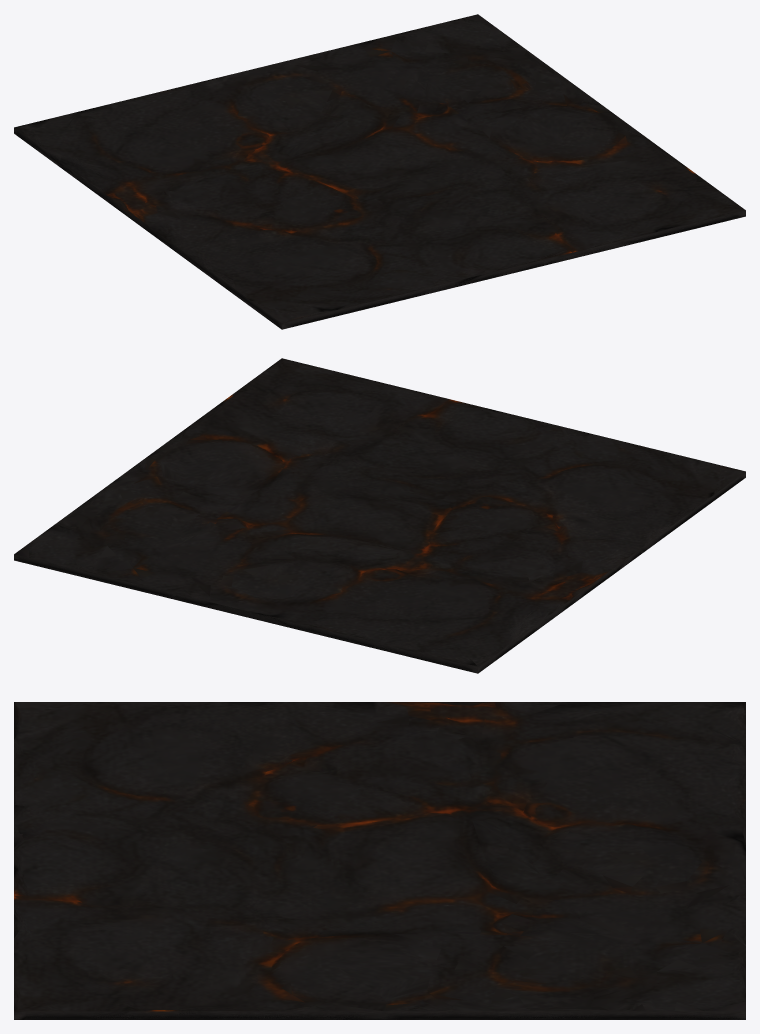
The picture shows the model from 3 angles, top to bottom: view 1: azimuth 30°, elevation 25°; view 2: azimuth 150°, elevation 25°; view 3: azimuth 270°, elevation 25°; orthographic projection. The views are drawn at different scales.
Visible parts, largest first — view 1: volcanic-ground.001; view 2: volcanic-ground.001; view 3: volcanic-ground.001.
Part boxes in pixels (x1=…): volcanic-ground.001: x1=14, y1=14, x2=745, y2=329; volcanic-ground.001: x1=14, y1=358, x2=745, y2=673; volcanic-ground.001: x1=14, y1=702, x2=745, y2=1019.
Bounding box in the file's own units: 32 × 0.4499 × 32.
1 material, 1 textured.
